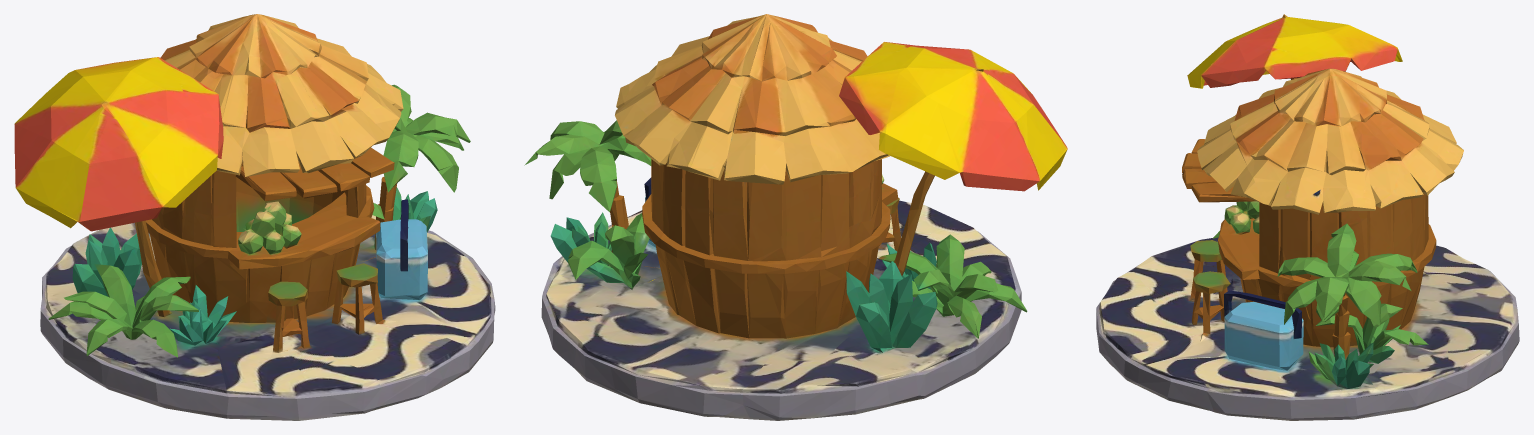
File: rio-quiosque-coco.glb
The picture shows the model from 3 angles, left to right: view 1: azimuth 30°, elevation 25°; view 2: azimuth 150°, elevation 25°; view 3: azimuth 270°, elevation 25°; orthographic projection. The views are drawn at different scales.
Parts seen in each view (by area): view 1: tripo_node_0ad935da-6ab3-4eb3-afe8-ab3ec8935eba; view 2: tripo_node_0ad935da-6ab3-4eb3-afe8-ab3ec8935eba; view 3: tripo_node_0ad935da-6ab3-4eb3-afe8-ab3ec8935eba.
Boxes of the visible parts, x1,y1,x2,y2 form: tripo_node_0ad935da-6ab3-4eb3-afe8-ab3ec8935eba: (14,14,495,420); tripo_node_0ad935da-6ab3-4eb3-afe8-ab3ec8935eba: (524,14,1067,420); tripo_node_0ad935da-6ab3-4eb3-afe8-ab3ec8935eba: (1096,14,1519,420).
Size of the model in its own units: 1 by 0.621 by 0.8853.
Materials: 1 (1 with a texture image).
